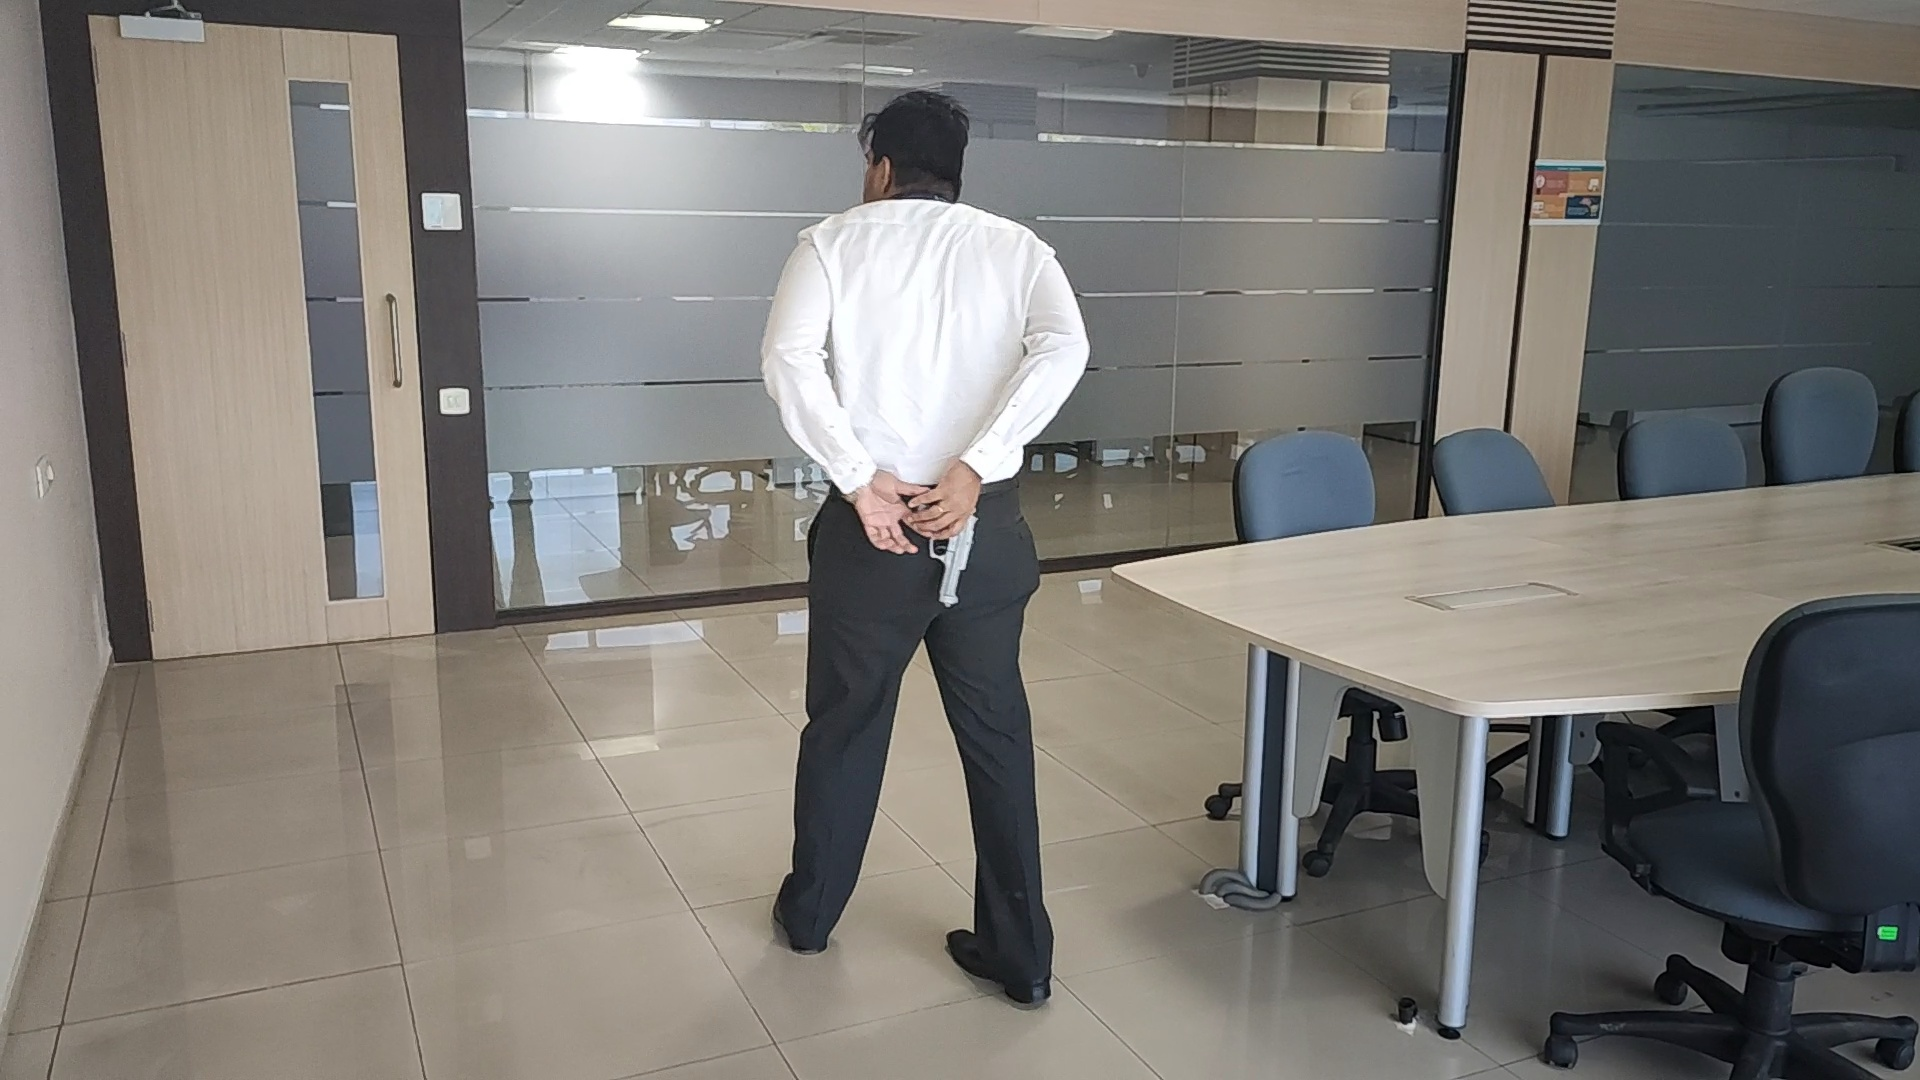gun: (931, 525, 976, 608)
